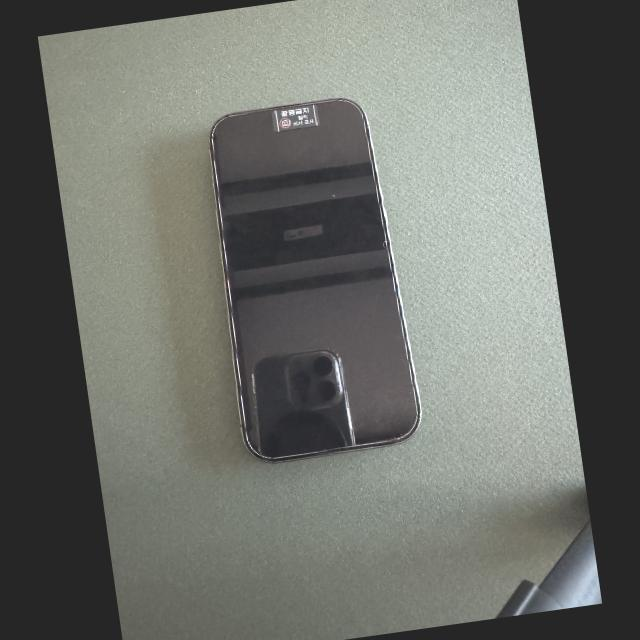phone: (209, 99, 421, 462)
sticker: (272, 105, 319, 132)
